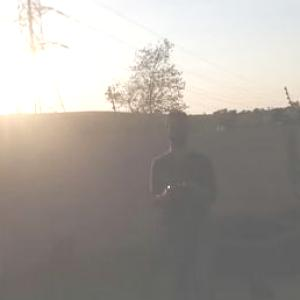follow: (144, 104, 224, 298)
